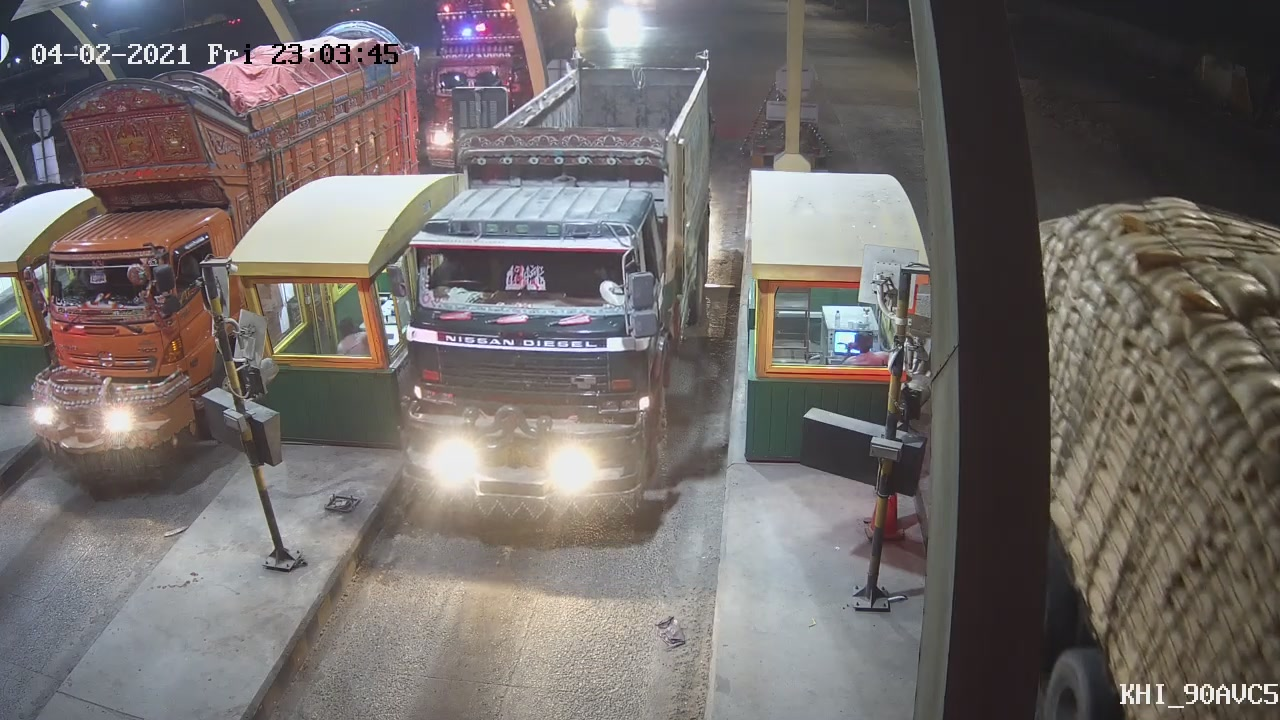F5: (395, 53, 723, 531)
